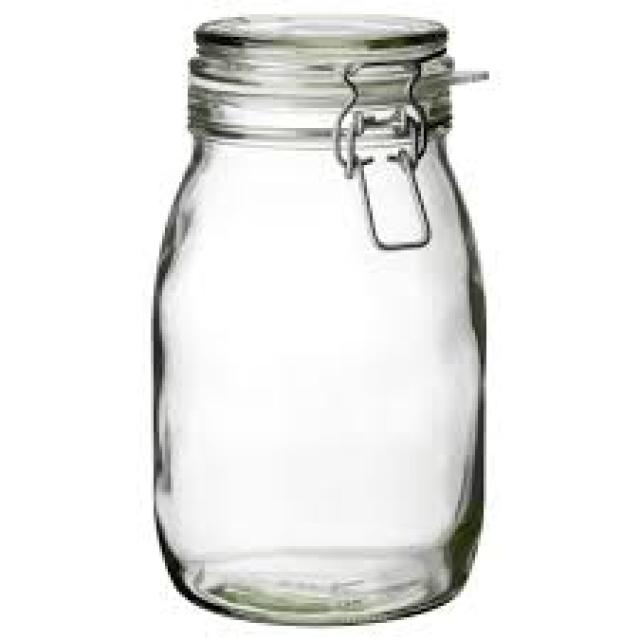Dry Waste: (147, 9, 494, 630)
